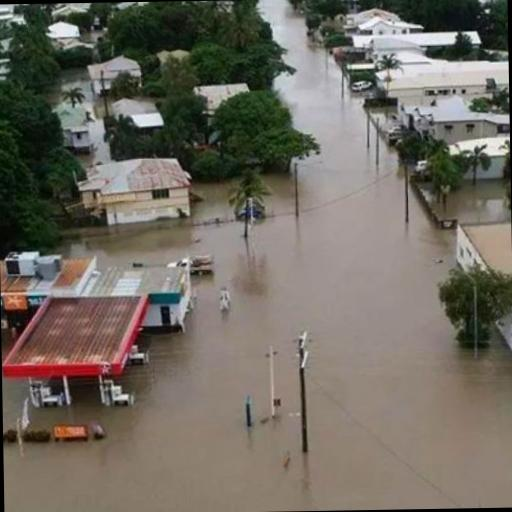flood: (2, 0, 512, 512), (0, 4, 14, 13)
house: (0, 243, 198, 410), (69, 153, 201, 236), (453, 219, 512, 321), (112, 98, 166, 148), (88, 54, 144, 100), (430, 105, 497, 142), (416, 64, 474, 102), (61, 104, 93, 151), (361, 14, 410, 36)
